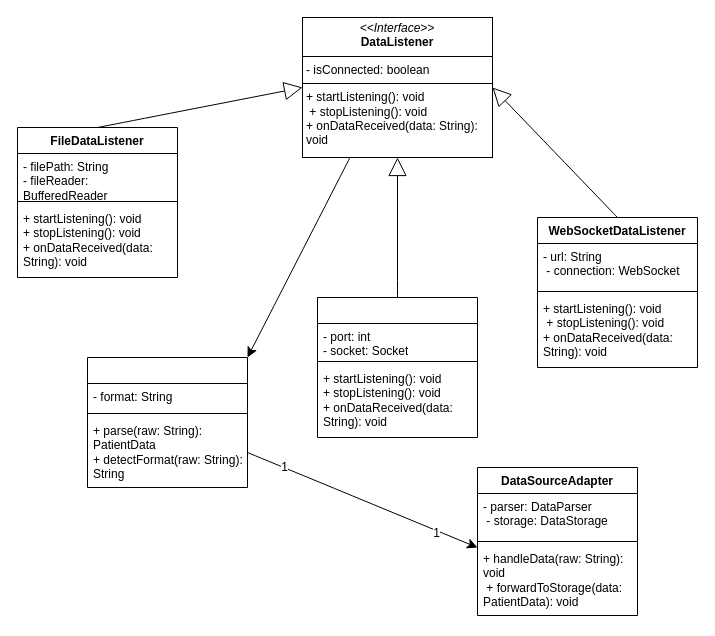
Image size: 715x636. Some labels were removed from this diagram. The box of each missing label's shape, as (x1, y1, x2, y2) in pixels:
DataParser: (86, 356, 248, 488)
TCPDataListener: (316, 296, 478, 438)
